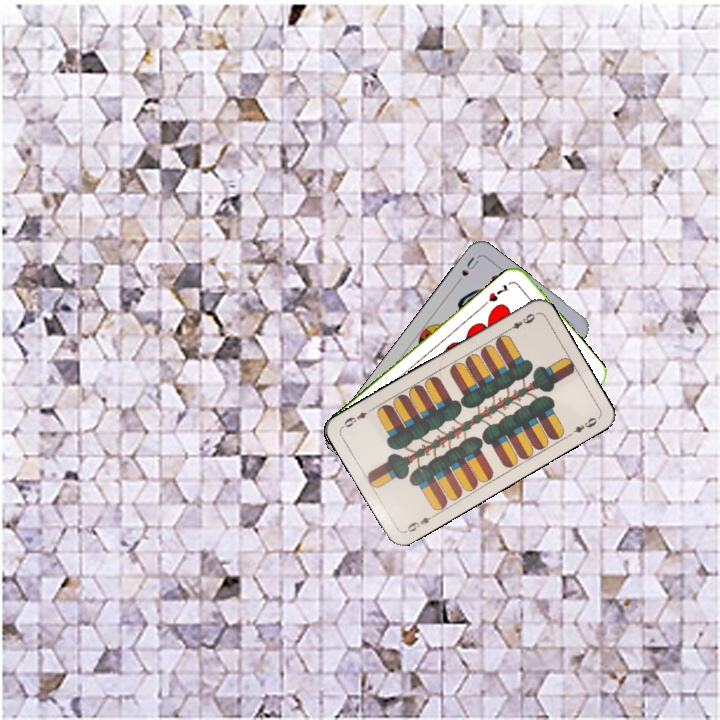E9: (502, 309, 538, 335), (401, 510, 438, 535)
H7: (485, 280, 512, 304)
SU: (452, 253, 482, 288)
